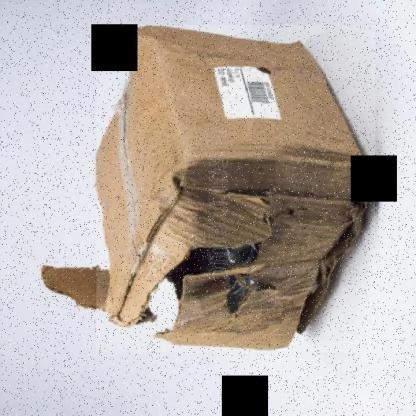-: (96, 25, 375, 353)
